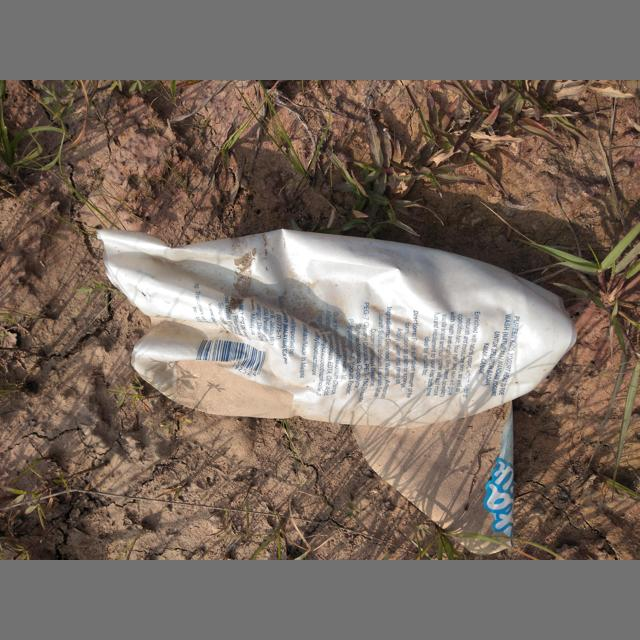litter: (96, 227, 577, 556)
